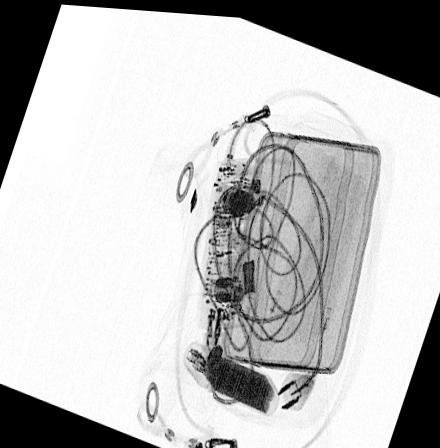Powerbank: (183, 337, 281, 413)
